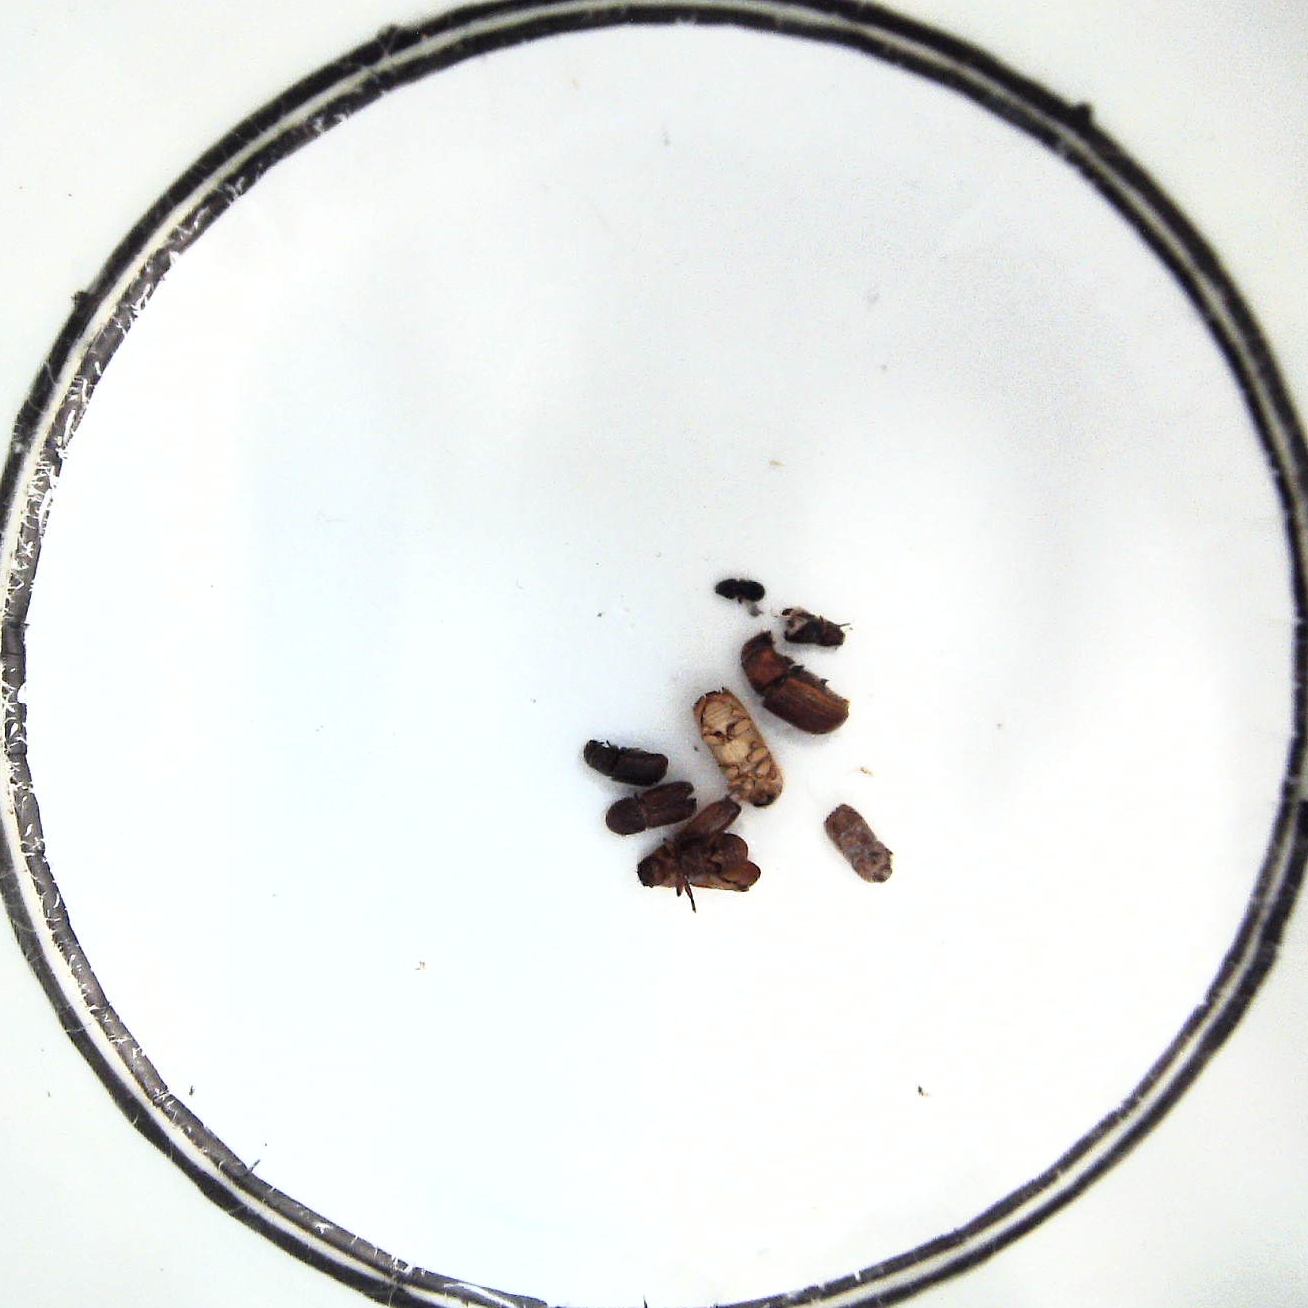Boerner: (692, 688, 785, 809)
Leconte: (638, 803, 758, 907), (743, 629, 849, 734)
Linnaeus: (824, 803, 895, 884), (605, 782, 697, 835)
acuminatus: (781, 607, 848, 652)
armandi: (582, 740, 670, 787)
coleoptera: (711, 577, 768, 602)
